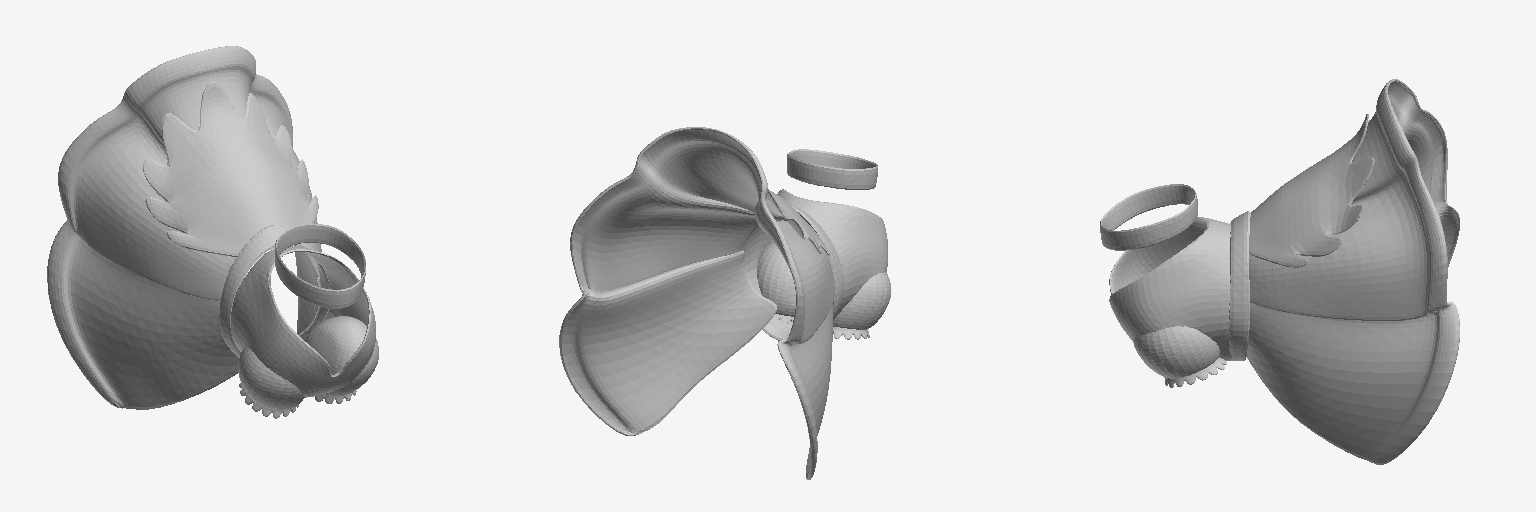
Rendered from normie.obj.
The picture shows the model from 3 angles: view 1: azimuth 30°, elevation 25°; view 2: azimuth 150°, elevation 25°; view 3: azimuth 270°, elevation 25°; orthographic projection.
Visible parts, largest first — view 1: cancan_dress_body0_model0.001_cancan_dress_body0_model0.000; view 2: cancan_dress_body0_model0.001_cancan_dress_body0_model0.000; view 3: cancan_dress_body0_model0.001_cancan_dress_body0_model0.000.
Part boxes in pixels (left/top/right/bottom): cancan_dress_body0_model0.001_cancan_dress_body0_model0.000: left=47, top=46, right=378, bottom=418; cancan_dress_body0_model0.001_cancan_dress_body0_model0.000: left=559, top=127, right=890, bottom=479; cancan_dress_body0_model0.001_cancan_dress_body0_model0.000: left=1100, top=79, right=1459, bottom=464.
Size of the model in its own units: 23.89 by 30.38 by 29.9.